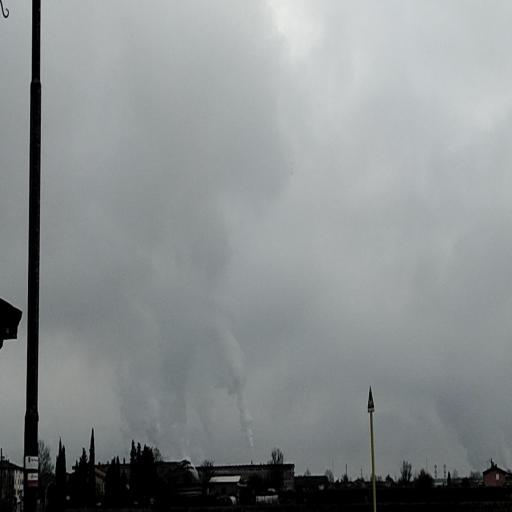leakage: (68, 262, 262, 484)
